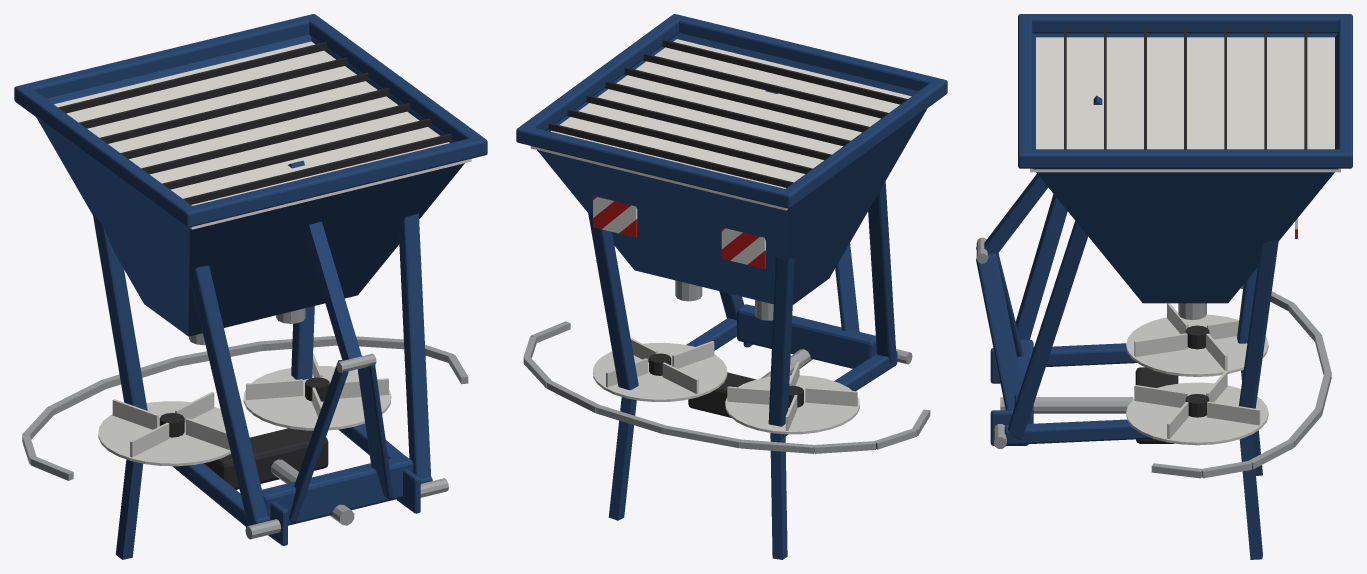
Rendered from abonadora.glb.
3 renders of one model, left to right at view 1: azimuth 30°, elevation 25°; view 2: azimuth 150°, elevation 25°; view 3: azimuth 270°, elevation 25°, orthographic. The views are drawn at different scales.
Parts seen in each view (by area): view 1: bastidor, carga, rejilla, mecanica, disco_d, disco_i; view 2: bastidor, carga, rejilla, mecanica, disco_i, disco_d, senales; view 3: bastidor, carga, disco_i, mecanica, disco_d, rejilla.
Boxes of the visible parts, x1,y1,x2,y2 form: bastidor: [14, 14, 487, 559]; carga: [54, 41, 471, 229]; rejilla: [58, 42, 452, 204]; mecanica: [22, 308, 468, 525]; disco_d: [98, 392, 230, 466]; disco_i: [243, 353, 391, 430]; bastidor: [516, 14, 947, 559]; carga: [530, 39, 911, 210]; rejilla: [548, 39, 907, 187]; mecanica: [523, 280, 930, 453]; disco_i: [593, 338, 727, 401]; disco_d: [725, 362, 859, 434]; senales: [593, 196, 765, 268]; bastidor: [976, 14, 1352, 559]; carga: [1030, 37, 1340, 172]; disco_i: [1126, 371, 1268, 445]; mecanica: [1000, 285, 1331, 478]; disco_d: [1126, 303, 1268, 376]; rejilla: [1064, 27, 1307, 149].
Bounding box in the file's own units: 1.99 × 2.01 × 1.59.
